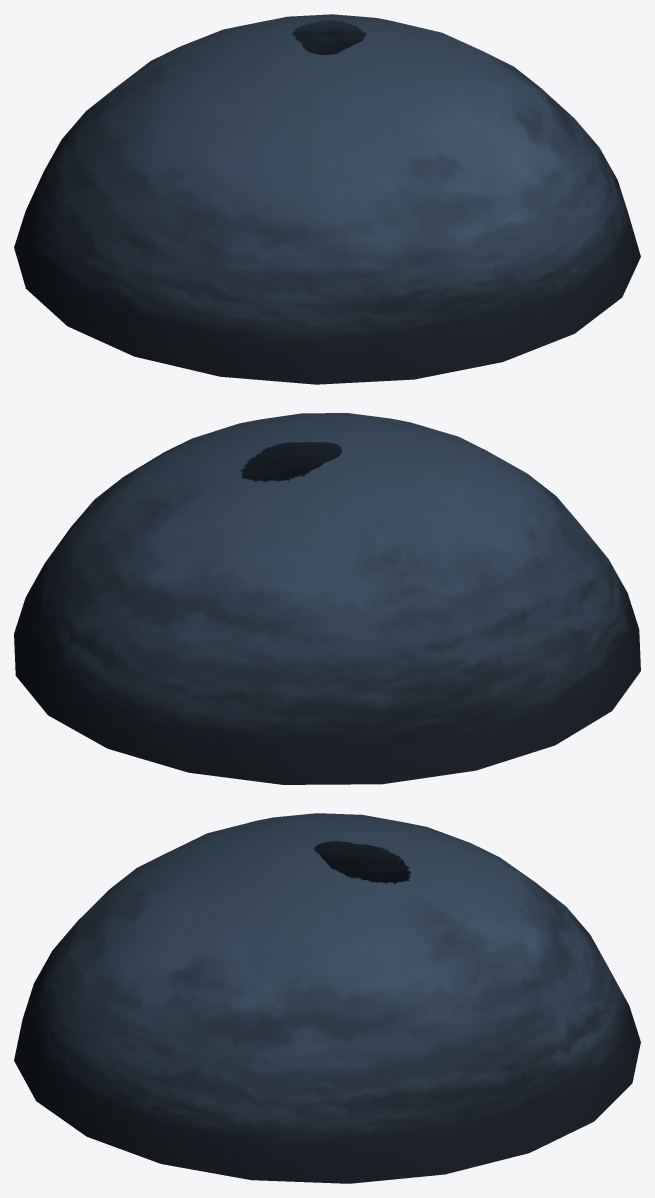
The model's file is sb_obj_sky_Cloudy_Night.fbx.
3 renders of one model, top to bottom at view 1: azimuth 30°, elevation 25°; view 2: azimuth 150°, elevation 25°; view 3: azimuth 270°, elevation 25°, orthographic.
Visible parts, largest first — view 1: sky; view 2: sky; view 3: sky.
Part boxes in pixels (<box>): sky: <box>14,14,640,384</box>; sky: <box>14,413,640,784</box>; sky: <box>14,813,640,1183</box>.
Bounding box in the file's own units: 985 × 356 × 985.
